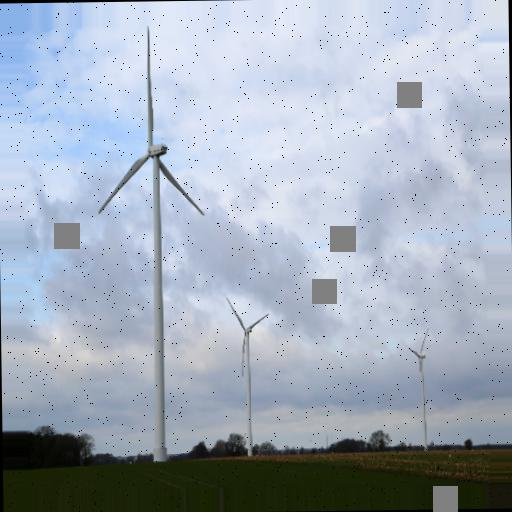wind turbine: (93, 19, 206, 468), (226, 297, 270, 456), (408, 328, 433, 444)
